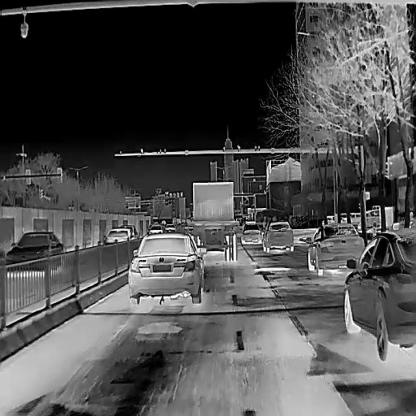car: (342, 231, 416, 361), (128, 232, 203, 304), (187, 181, 237, 260), (306, 222, 364, 275), (2, 230, 64, 265), (264, 220, 293, 253), (360, 207, 397, 227), (322, 211, 360, 228), (240, 221, 262, 244), (103, 229, 131, 245), (148, 224, 163, 233), (164, 223, 176, 233)
